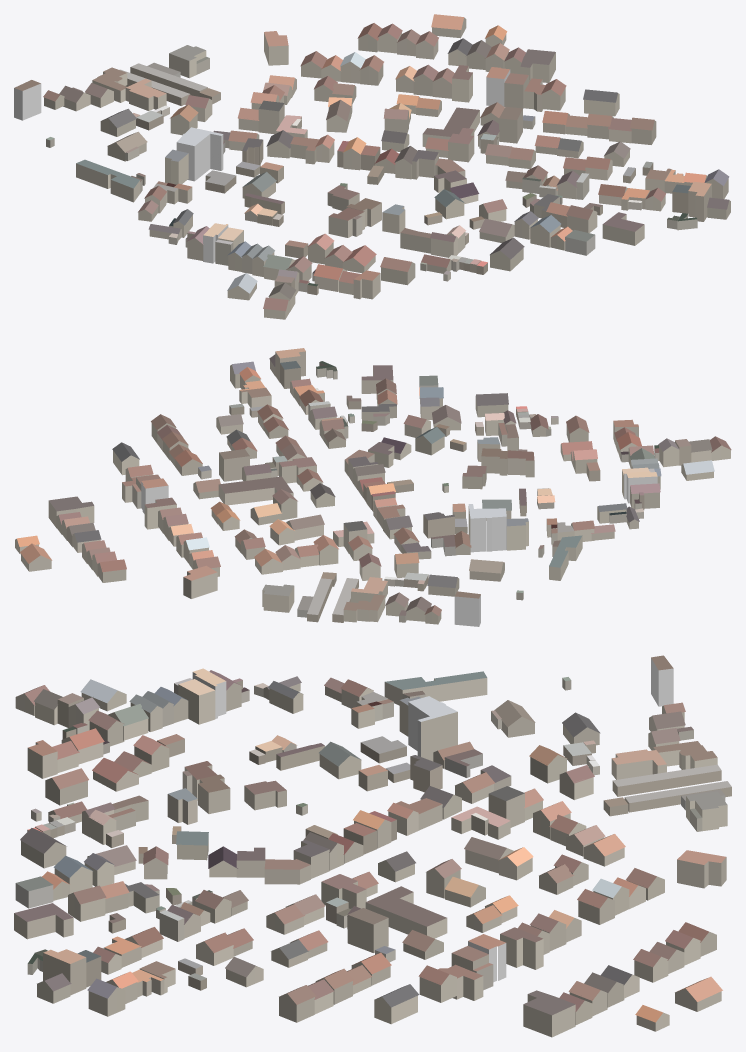
3 renders of one model, top to bottom at view 1: azimuth 30°, elevation 25°; view 2: azimuth 150°, elevation 25°; view 3: azimuth 270°, elevation 25°, orthographic. The views are drawn at different scales.
Parts seen in each view (by area): view 1: tuile; view 2: tuile; view 3: tuile.
Boxes of the visible parts, x1,y1,x2,y2 form: tuile: (14,14,730,319); tuile: (15,348,731,626); tuile: (14,655,731,1037).
Bounding box in the file's own units: 264 × 34.24 × 261.
